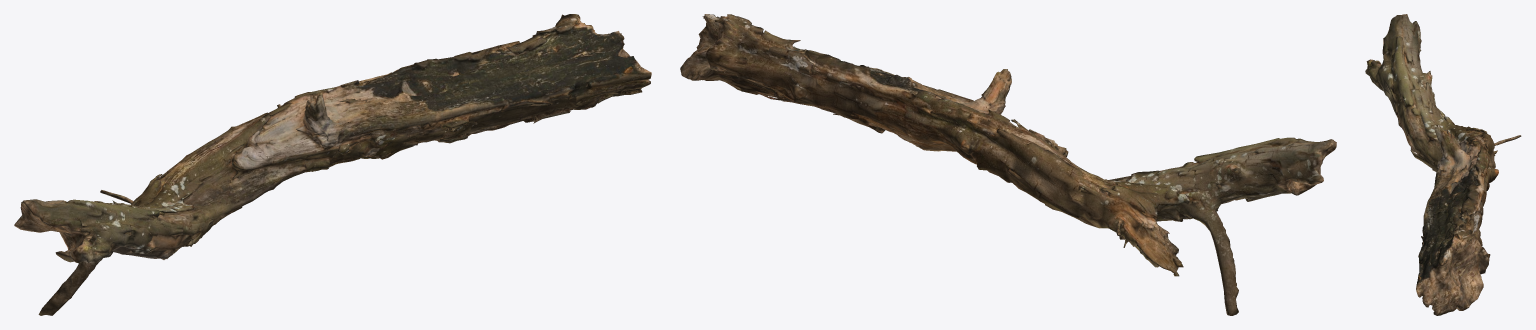
File: Log_b.glb
3 renders of one model, left to right at view 1: azimuth 30°, elevation 25°; view 2: azimuth 150°, elevation 25°; view 3: azimuth 270°, elevation 25°, orthographic. The views are drawn at different scales.
Visible parts, largest first — view 1: dead_tree_trunk_02; view 2: dead_tree_trunk_02; view 3: dead_tree_trunk_02.
Boxes of the visible parts, x1,y1,x2,y2 form: dead_tree_trunk_02: (14,14,651,315); dead_tree_trunk_02: (680,14,1336,315); dead_tree_trunk_02: (1365,14,1521,315).
Size of the model in its own units: 4.05 by 1.05 by 1.05.
1 material, 1 textured.
